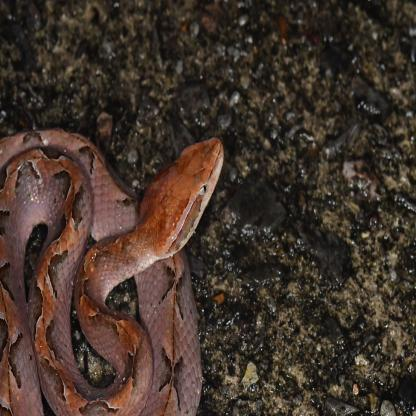Snake: (0, 125, 226, 416)
